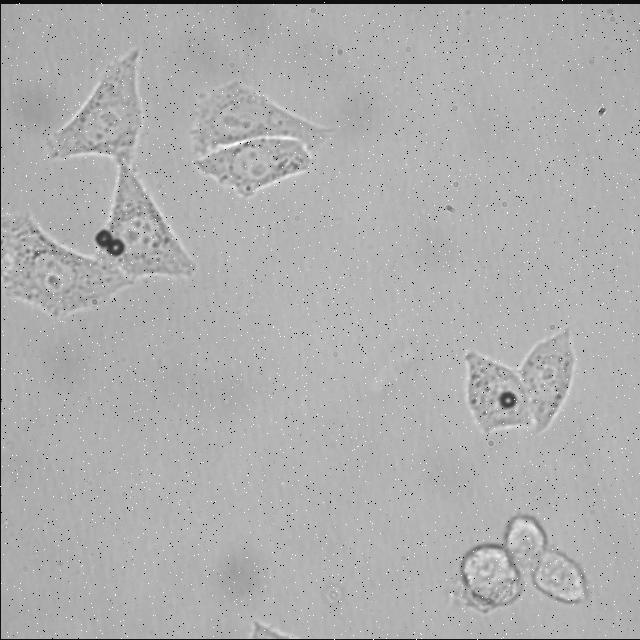microbeads: (92, 226, 111, 248), (497, 390, 518, 408), (106, 238, 124, 256)
